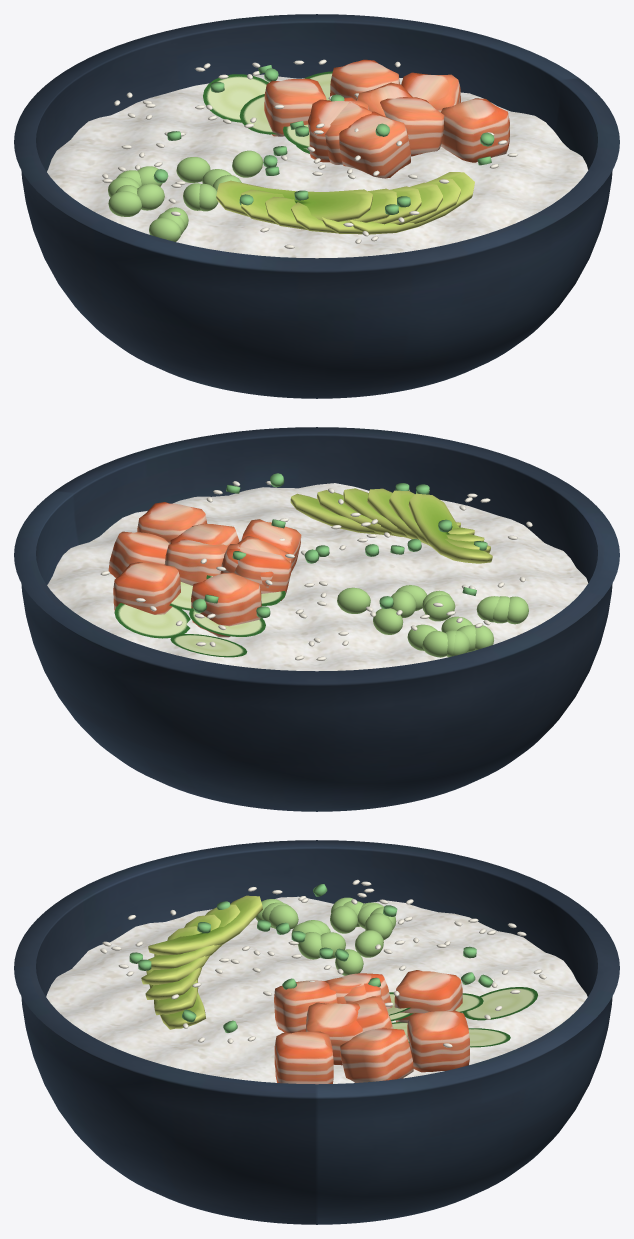
File: poke-de-salmao.glb
The picture shows the model from 3 angles, top to bottom: view 1: azimuth 30°, elevation 25°; view 2: azimuth 150°, elevation 25°; view 3: azimuth 270°, elevation 25°; orthographic projection.
Visible parts, largest first — view 1: poke-de-salmao; view 2: poke-de-salmao; view 3: poke-de-salmao.
Part boxes in pixels (x1,y1,x2,y2): poke-de-salmao: (14,14,619,398); poke-de-salmao: (14,427,619,811); poke-de-salmao: (14,840,619,1224).
Bounding box in the file's own units: 0.194 × 0.0772 × 0.194.
Materials: 8 (5 with a texture image).
